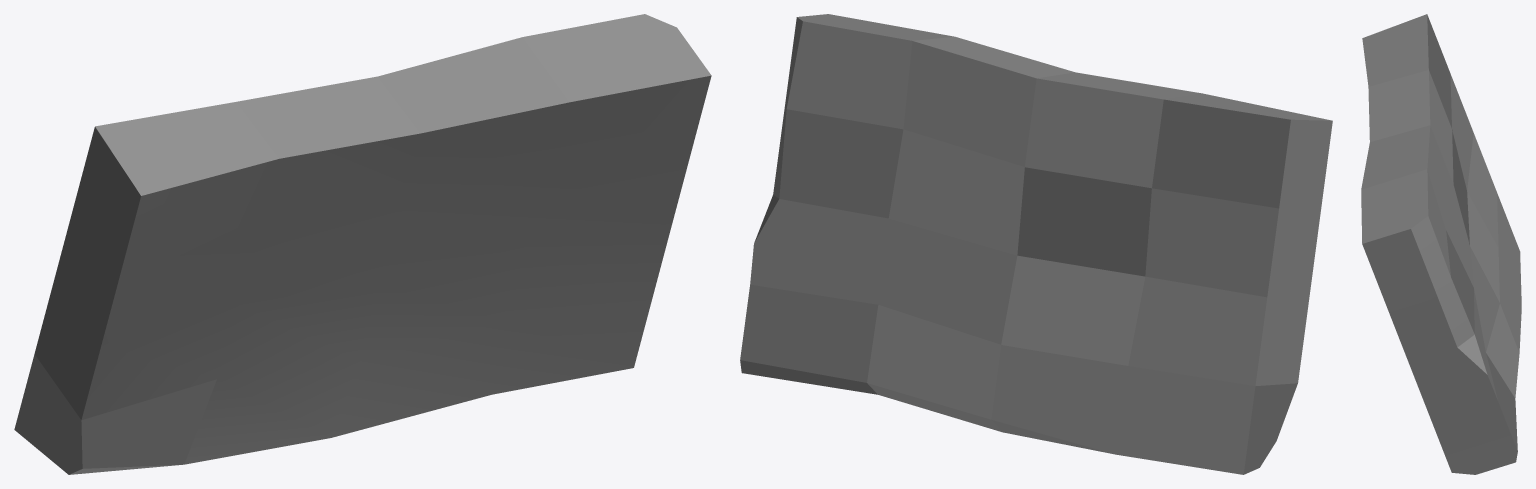
File: Fixed Mesh 21.fbx
The picture shows the model from 3 angles, left to right: view 1: azimuth 30°, elevation 25°; view 2: azimuth 150°, elevation 25°; view 3: azimuth 270°, elevation 25°; orthographic projection. The views are drawn at different scales.
Visible parts, largest first — view 1: Collapsed.004; view 2: Collapsed.004; view 3: Collapsed.004.
Boxes of the visible parts, x1=… form: Collapsed.004: x1=14, y1=14, x2=711, y2=474; Collapsed.004: x1=740, y1=14, x2=1332, y2=474; Collapsed.004: x1=1361, y1=14, x2=1521, y2=474.
Size of the model in its own units: 233 by 150 by 80.18.
